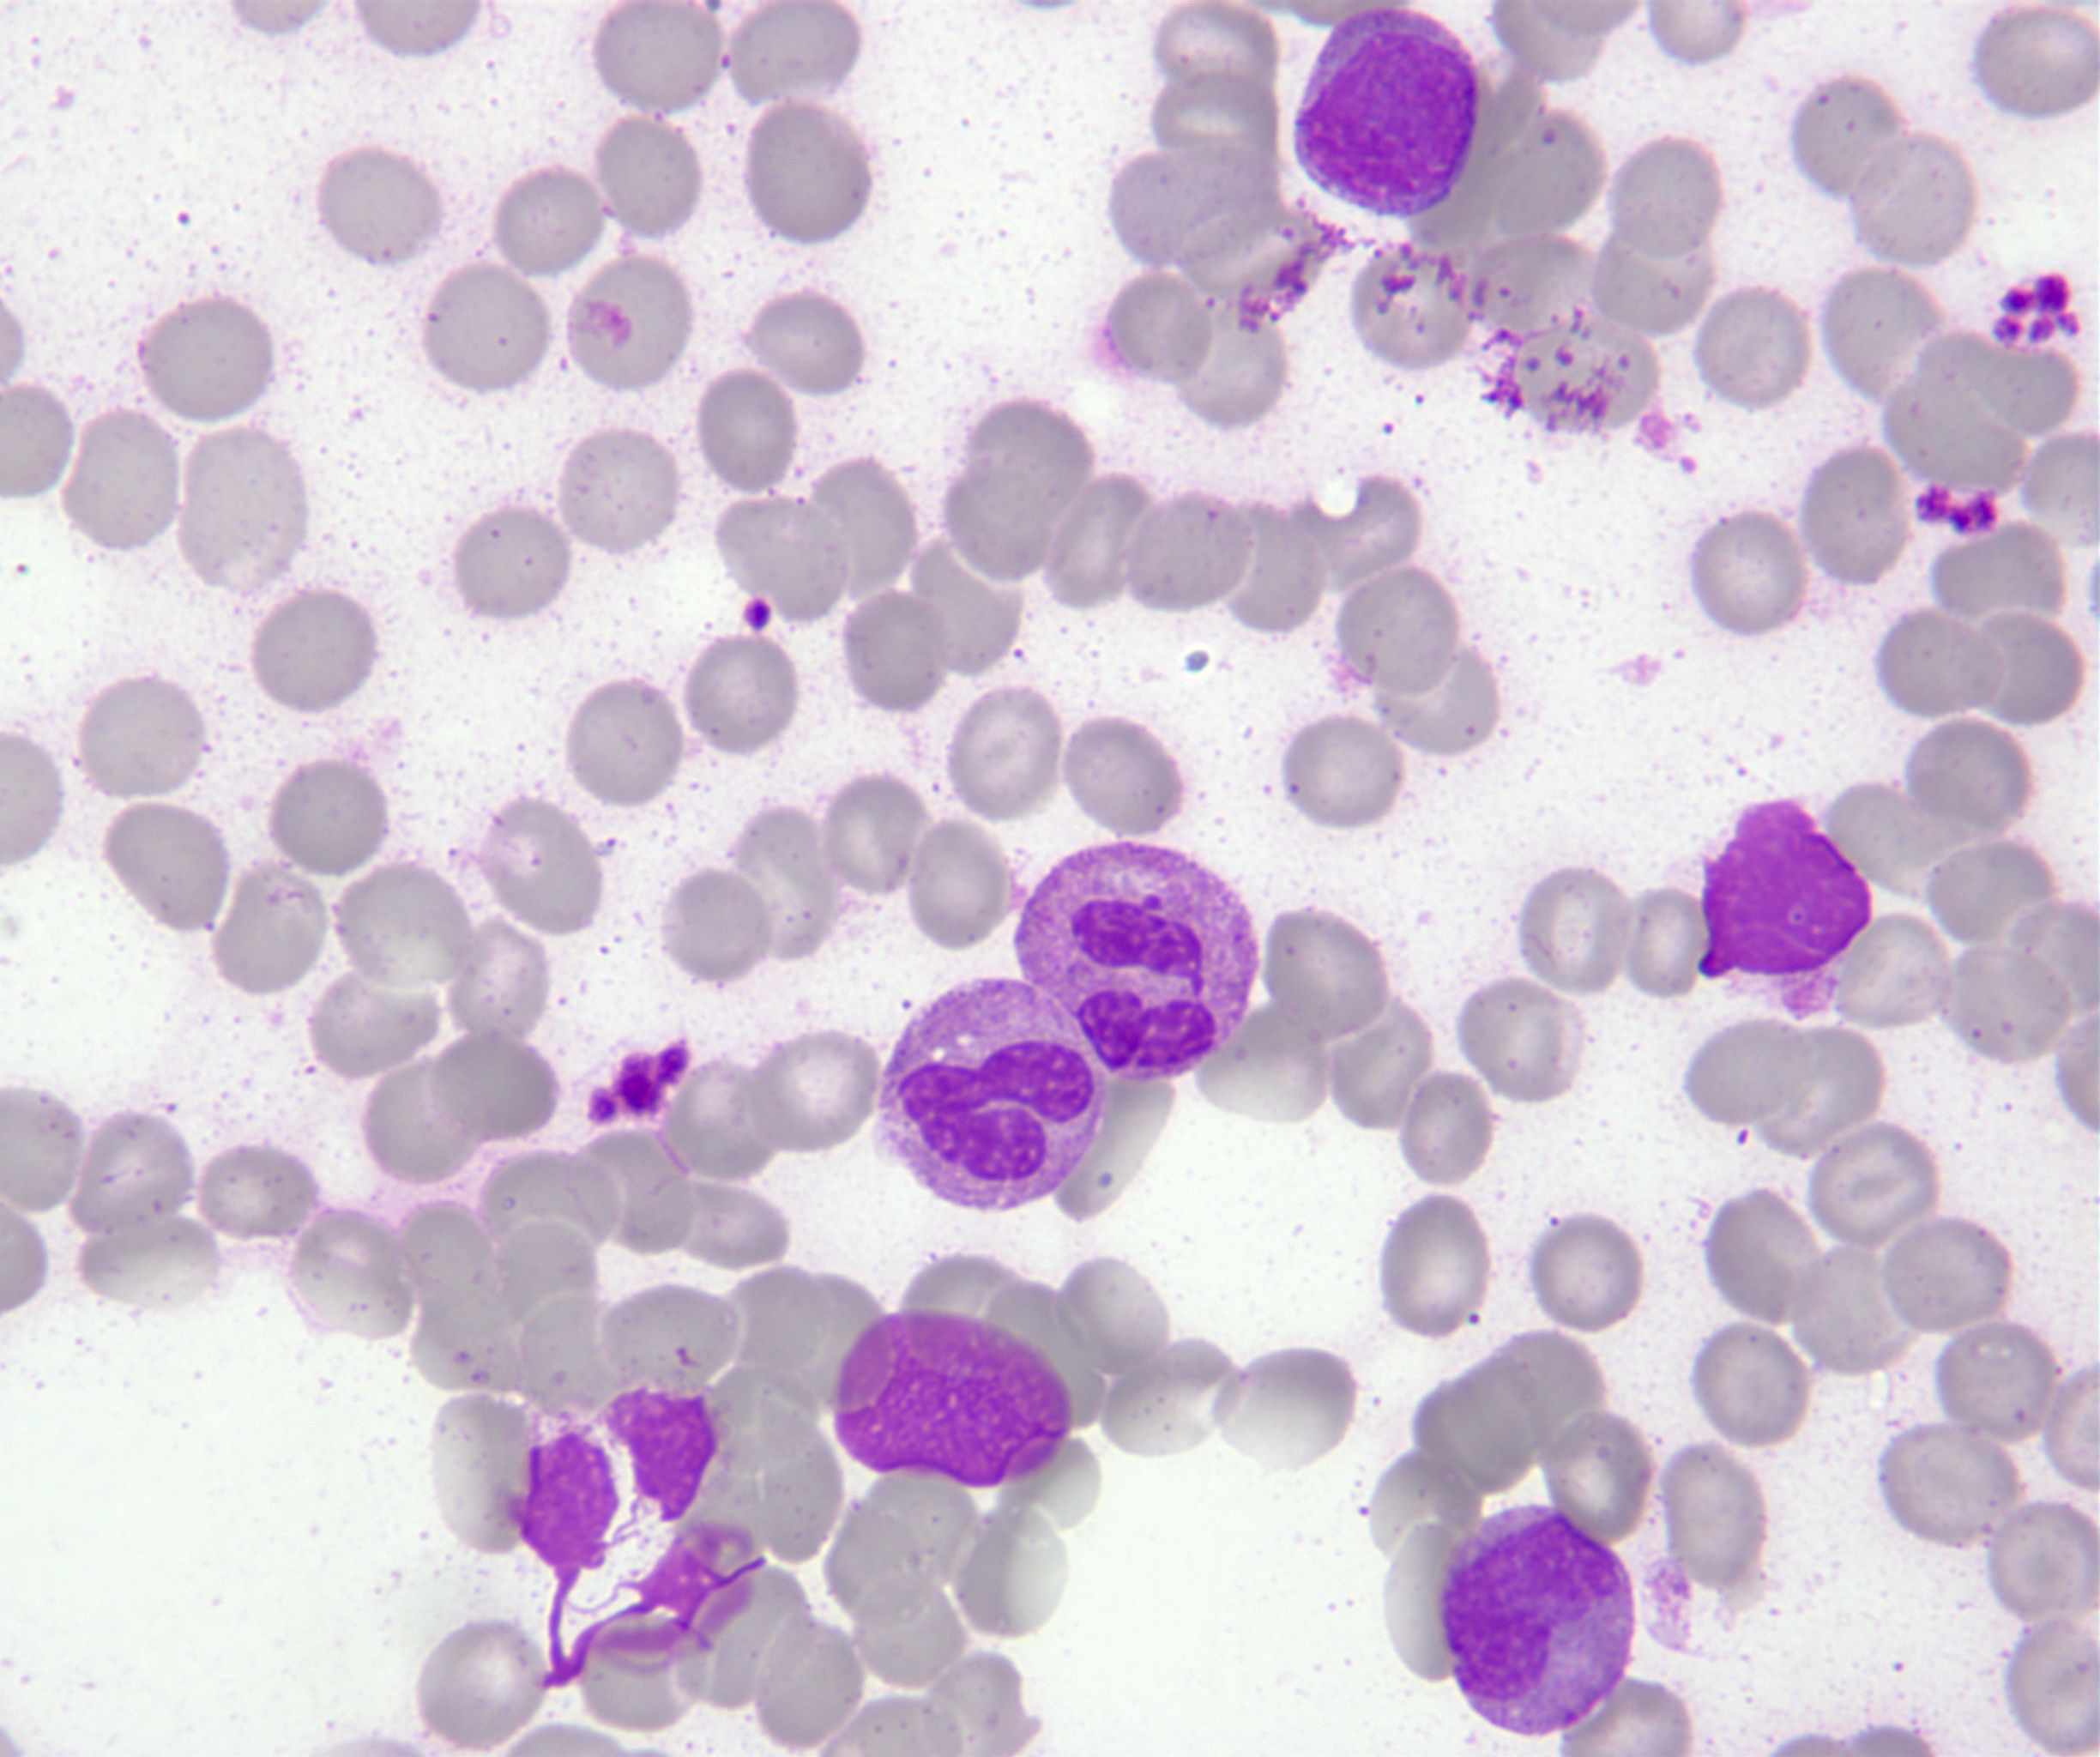32: (1285, 0, 1484, 223)
4: (1430, 1497, 1641, 1747)
5: (869, 972, 1109, 1218)
6: (1008, 834, 1266, 1087)
x: (825, 1309, 1081, 1495), (1694, 787, 1880, 984)
